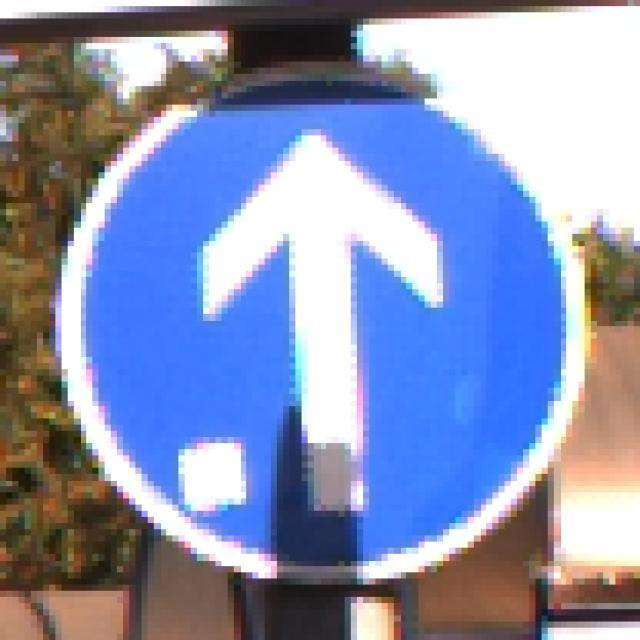compulsary ahead: (43, 49, 598, 595)
